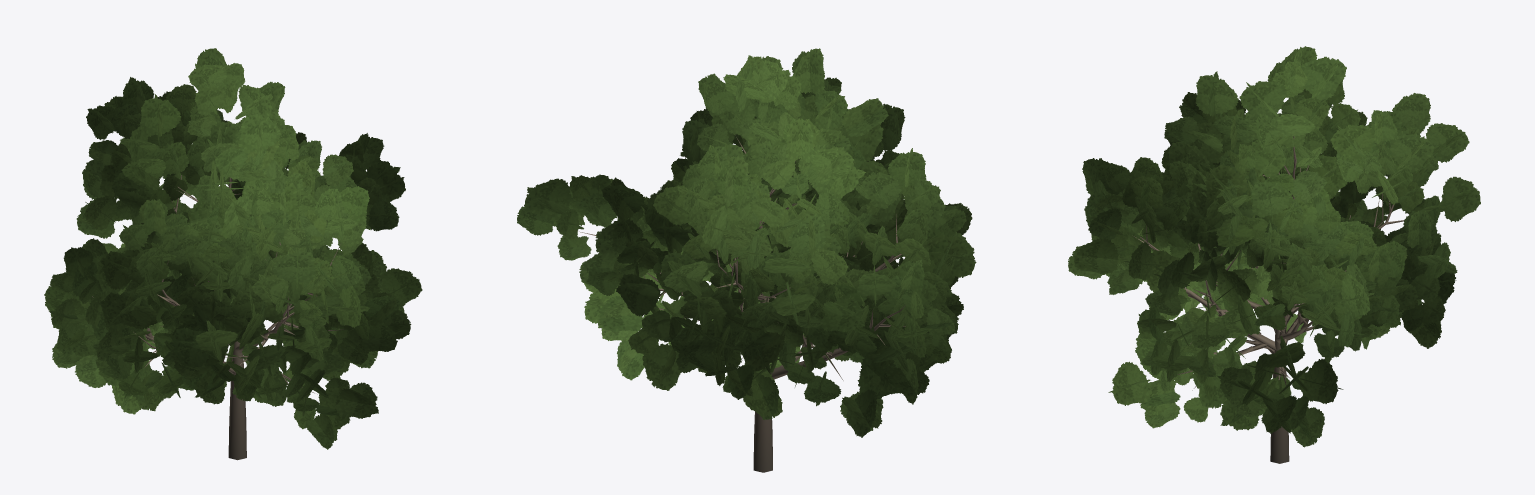
File: encina.glb
3 renders of one model, left to right at view 1: azimuth 30°, elevation 25°; view 2: azimuth 150°, elevation 25°; view 3: azimuth 270°, elevation 25°, orthographic. The views are drawn at different scales.
Visible parts, largest first — view 1: encina; view 2: encina; view 3: encina.
Boxes of the visible parts, <box> form: encina: <box>44,48,422,460</box>; encina: <box>517,48,976,472</box>; encina: <box>1068,46,1480,463</box>.
Size of the model in its own units: 8.26 by 8 by 7.85.
Materials: 2 (1 with a texture image).
